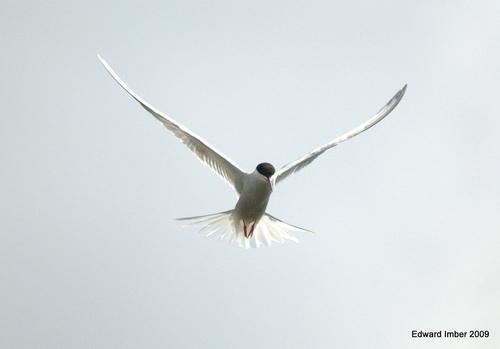bird: (98, 50, 404, 246)
